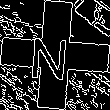N_N: (33, 28, 77, 82)
